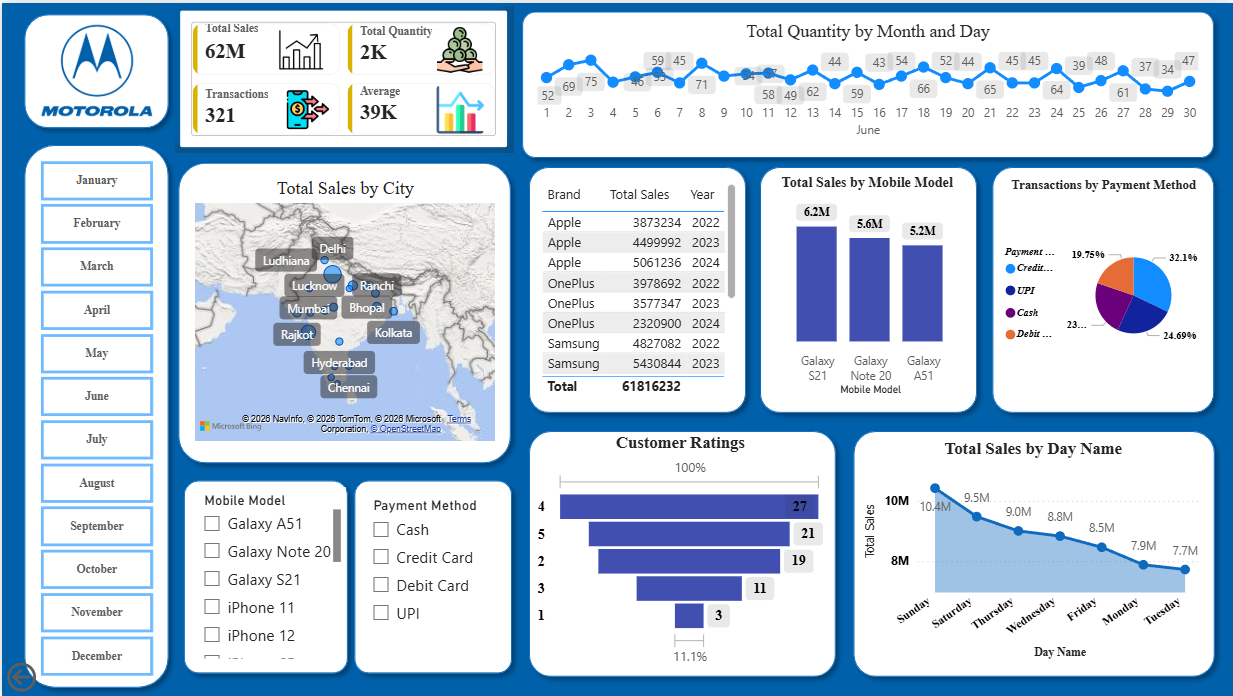

The dashboard page shown, as its layout file describes it:
{"tool":"powerbi","page":{"name":"Page 1","canvas":[1280,720],"ordinal":0},"visuals":[{"type":"shape","box":[175,156.7,363.3,330],"z":0},{"type":"shape","box":[13.8,2.8,167.8,136.2],"z":1000},{"type":"image","box":[38.5,22,119.6,97.6],"z":2000},{"type":"shape","box":[13.8,138.9,167.8,581.7],"z":3000},{"type":"slicer","fields":{"Values":["Sales Data.Date.Variation.Date Hierarchy.Month"]},"box":[13.8,156.8,166.4,548.7],"z":4000},{"type":"cardVisual","fields":{"Data":["Sales Data.Total Sales","Sales Data.Total Quantity","Sales Data.Transactions","Sales Data.Average"]},"box":[180,3.3,351.7,153.3],"z":5000},{"type":"map","fields":{"Category":["Sales Data.City"],"Size":["Sales Data.Total Sales"]},"box":[195,181.7,321.7,278.3],"z":6000},{"type":"shape","box":[531.7,0,736.7,170],"z":7000},{"type":"lineChart","fields":{"Y":["Sales Data.Total Quantity"],"Category":["Sales Data.Date.Variation.Date Hierarchy.Month","Sales Data.Date.Variation.Date Hierarchy.Day"]},"box":[551.7,18.3,696.7,135],"z":8000},{"type":"shape","box":[778.3,161.7,243.3,273.3],"z":9000},{"type":"clusteredColumnChart","fields":{"Y":["Sales Data.Total Sales"],"Category":["Sales Data.Mobile Model"]},"box":[791.7,178.3,215,233.3],"z":10000},{"type":"shape","box":[1020,161.7,248.3,273.3],"z":11000},{"type":"pieChart","fields":{"Category":["Sales Data.Payment Method"],"Y":["Sales Data.Transactions"]},"box":[1036.7,181.7,215,230],"z":12000},{"type":"shape","box":[538.3,161.7,243.3,273.3],"z":13000},{"type":"shape","box":[538.3,435,336.7,273.3],"z":14000},{"type":"shape","box":[875,435,393.3,273.3],"z":15000},{"type":"shape","box":[180,486.7,188.3,218.3],"z":16000},{"type":"shape","box":[356.7,486.7,181.7,218.3],"z":17000},{"type":"funnel","title":"Customer Ratings","fields":{"Category":["Sales Data.Customer Ratings"],"Y":["CountNonNull(Sales Data.Customer Ratings)"]},"box":[551.7,446.7,306.7,246.7],"z":18000},{"type":"areaChart","fields":{"Category":["Sales Data.Day Name"],"Y":["Sales Data.Total Sales"]},"box":[891.7,453.3,360,233.3],"z":19000},{"type":"tableEx","fields":{"Values":["Sales Data.Brand","Sales Data.Total Sales","Sales Data.Date.Variation.Date Hierarchy.Year"]},"box":[555,183.3,211.7,230],"z":20000},{"type":"actionButton","box":[0,680,100,40],"z":21000},{"type":"slicer","fields":{"Values":["Sales Data.Mobile Model"]},"box":[196.7,503.3,160,183.3],"z":22000},{"type":"slicer","fields":{"Values":["Sales Data.Payment Method"]},"box":[373.3,508.3,150,173.3],"z":23000}]}

Visuals, with their boxes in screenshot pixels (x1, y1, x2, y2), scaled from the page's 1280x720 canvas onto the 1233x696 screenshot:
shape: bbox=[169, 151, 519, 470]
shape: bbox=[13, 3, 175, 134]
image: bbox=[37, 21, 152, 116]
shape: bbox=[13, 134, 175, 695]
slicer - Sales Data.Date.Variation.Date Hierarchy.Month: bbox=[13, 152, 174, 682]
cardVisual - Sales Data.Total Sales x Sales Data.Total Quantity: bbox=[173, 3, 512, 151]
map - Sales Data.City x Sales Data.Total Sales: bbox=[188, 176, 498, 445]
shape: bbox=[512, 0, 1222, 164]
lineChart - Sales Data.Total Quantity x Sales Data.Date.Variation.Date Hierarchy.Month: bbox=[531, 18, 1203, 148]
shape: bbox=[750, 156, 984, 420]
clusteredColumnChart - Sales Data.Total Sales x Sales Data.Mobile Model: bbox=[763, 172, 970, 398]
shape: bbox=[983, 156, 1222, 420]
pieChart - Sales Data.Payment Method x Sales Data.Transactions: bbox=[999, 176, 1206, 398]
shape: bbox=[519, 156, 753, 420]
shape: bbox=[519, 420, 843, 685]
shape: bbox=[843, 420, 1222, 685]
shape: bbox=[173, 470, 355, 682]
shape: bbox=[344, 470, 519, 682]
"Customer Ratings" funnel: bbox=[531, 432, 827, 670]
areaChart - Sales Data.Day Name x Sales Data.Total Sales: bbox=[859, 438, 1206, 664]
tableEx - Sales Data.Brand x Sales Data.Total Sales: bbox=[535, 177, 739, 400]
actionButton: bbox=[0, 657, 96, 695]
slicer - Sales Data.Mobile Model: bbox=[189, 487, 344, 664]
slicer - Sales Data.Payment Method: bbox=[360, 491, 504, 659]
